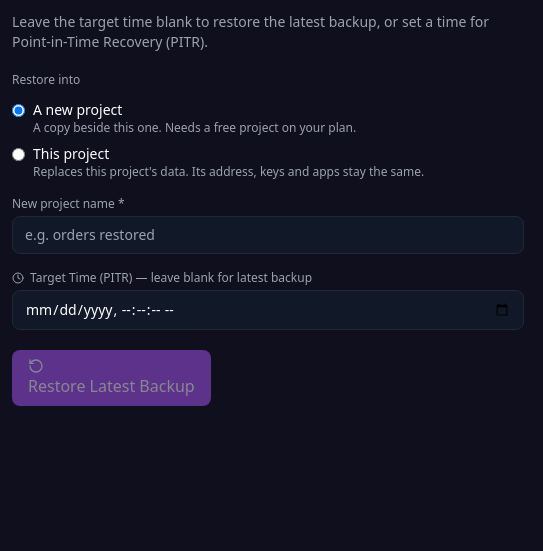
it: RestoreForm on a plan at its project limit › the refusal stays on screen and offers restoring into this project
The width and height of the screenshot is (543, 551).
Type "copy" into the field labelled "New project name *" at [268, 235], box [12,216,524,254]
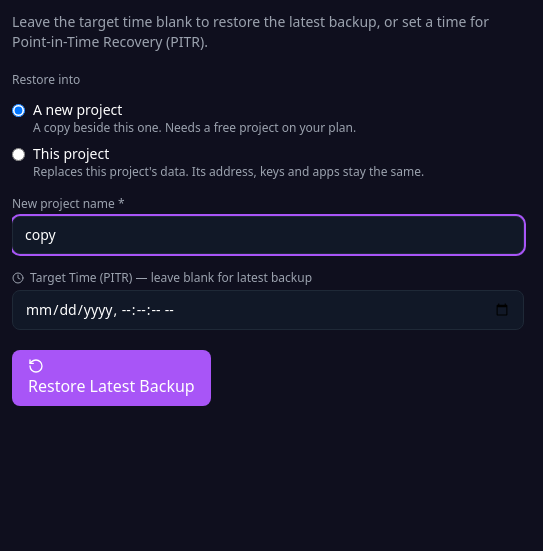
Click the button "Restore Latest Backup" at [111, 378], box [12,350,211,406]
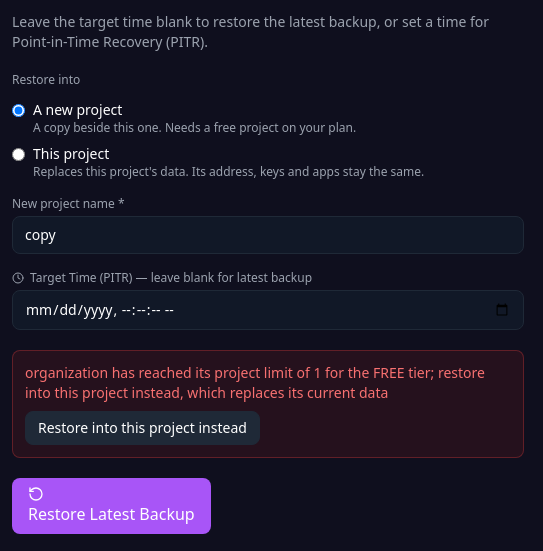
Now the message shows "project limit of 1", box [25,363,485,402]
Click the button "Restore into this project instead" at [142, 428], box [25,411,260,445]
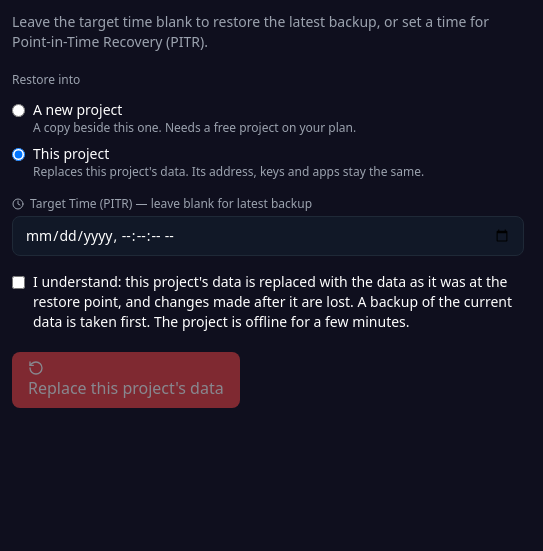
Now the radio button labelled "This project" is checked, box [12,148,25,161]
Now the label labelled "New project name" is gone
Now the button "Replace this project's data" is disabled, box [12,352,240,408]
